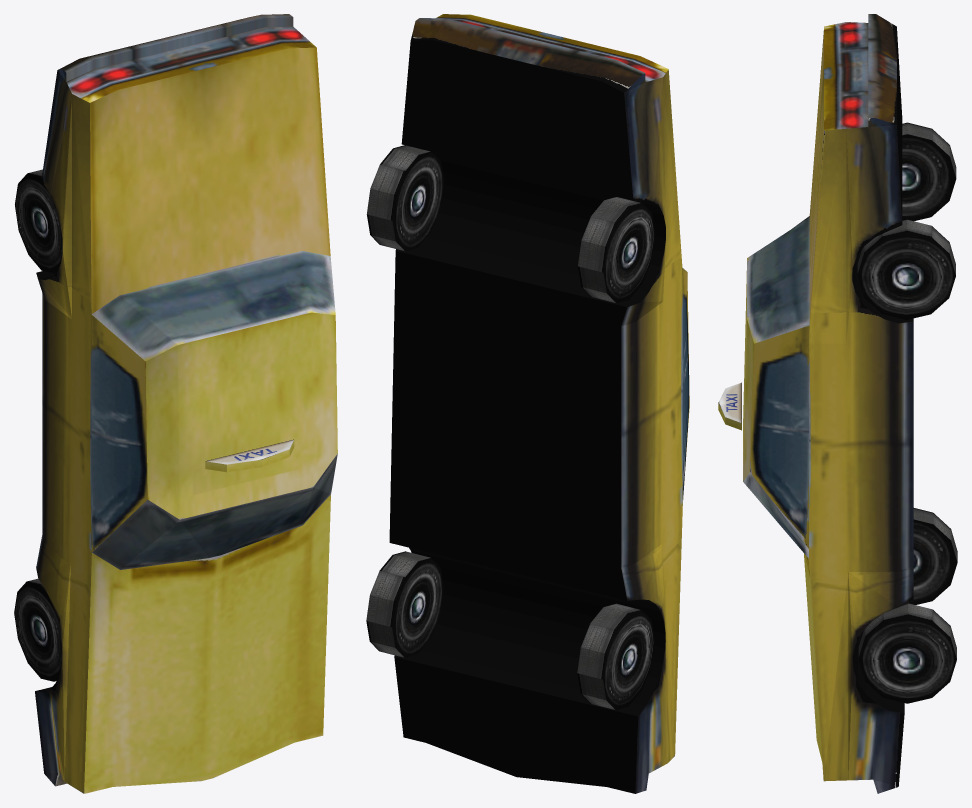
File: carpack_cab_wtf.obj
3 views of the same model, side by side, from view 1: azimuth 30°, elevation 25°; view 2: azimuth 150°, elevation 25°; view 3: azimuth 270°, elevation 25° (orthographic). The views are drawn at different scales.
Parts seen in each view (by area): view 1: group1; view 2: group1; view 3: group1.
Boxes of the visible parts, x1,y1,x2,y2 form: group1: [14, 14, 337, 793]; group1: [366, 14, 689, 793]; group1: [718, 14, 957, 793].
Bounding box in the file's own units: 236 × 660 × 207.
